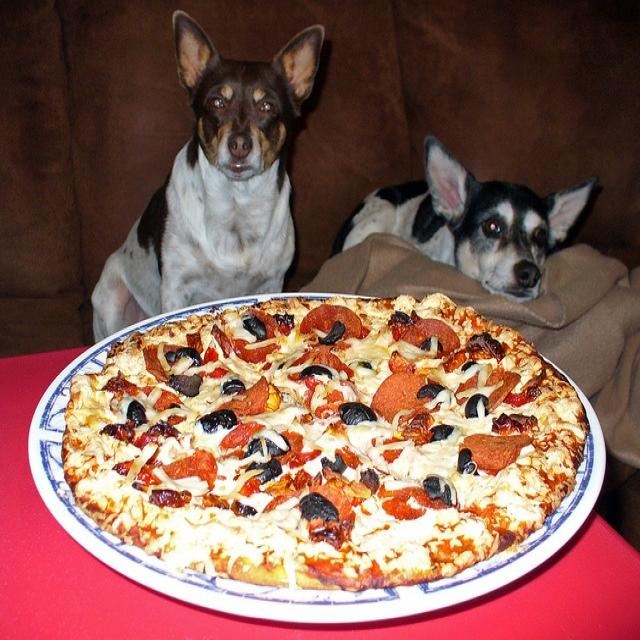dog: (86, 12, 323, 342), (325, 134, 594, 294)
